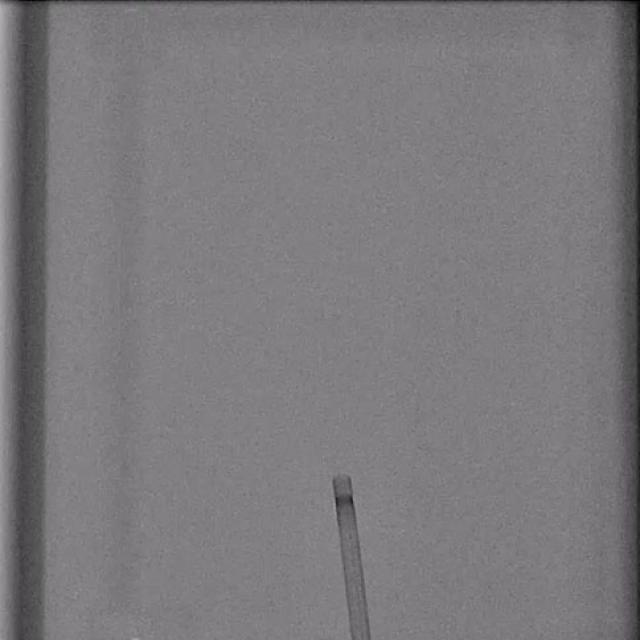entry: (350, 633, 371, 640)
marker: (334, 492, 354, 509)
tip: (331, 475, 351, 481)
